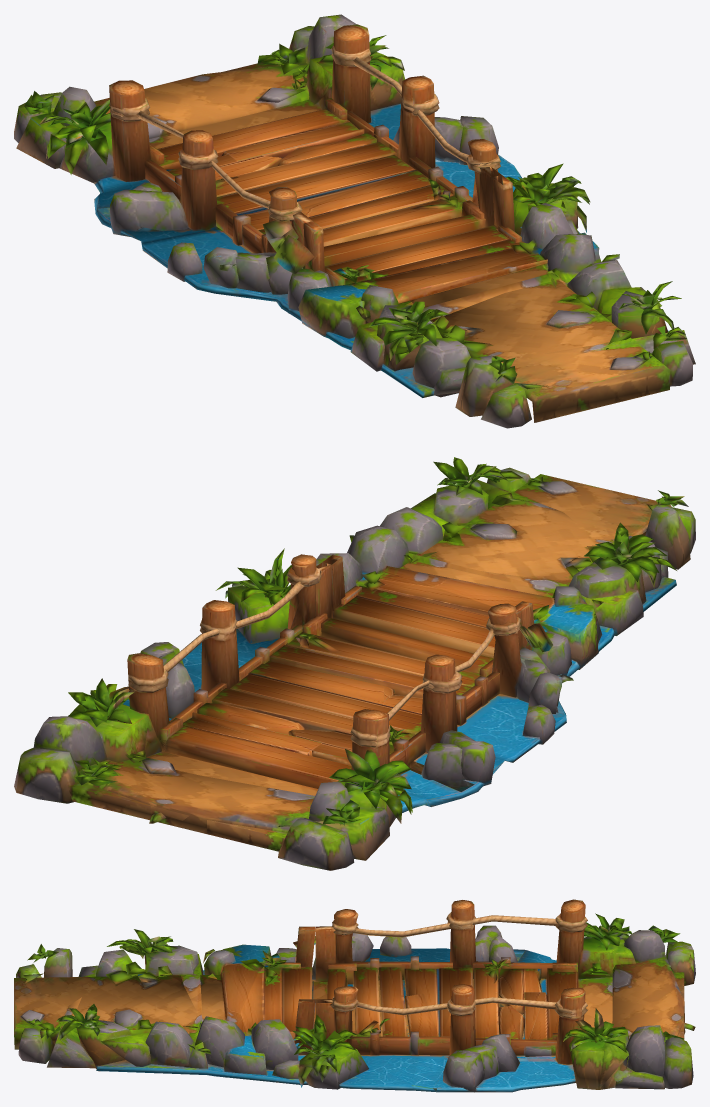
Rendered from Meshy_AI_Tropical_Timber_Bridg_1005032836_texture.glb.
The picture shows the model from 3 angles, top to bottom: view 1: azimuth 30°, elevation 25°; view 2: azimuth 150°, elevation 25°; view 3: azimuth 270°, elevation 25°; orthographic projection. The views are drawn at different scales.
Bounding box in the file's own units: 0.4761 × 0.1177 × 0.957.
1 material, 1 textured.
